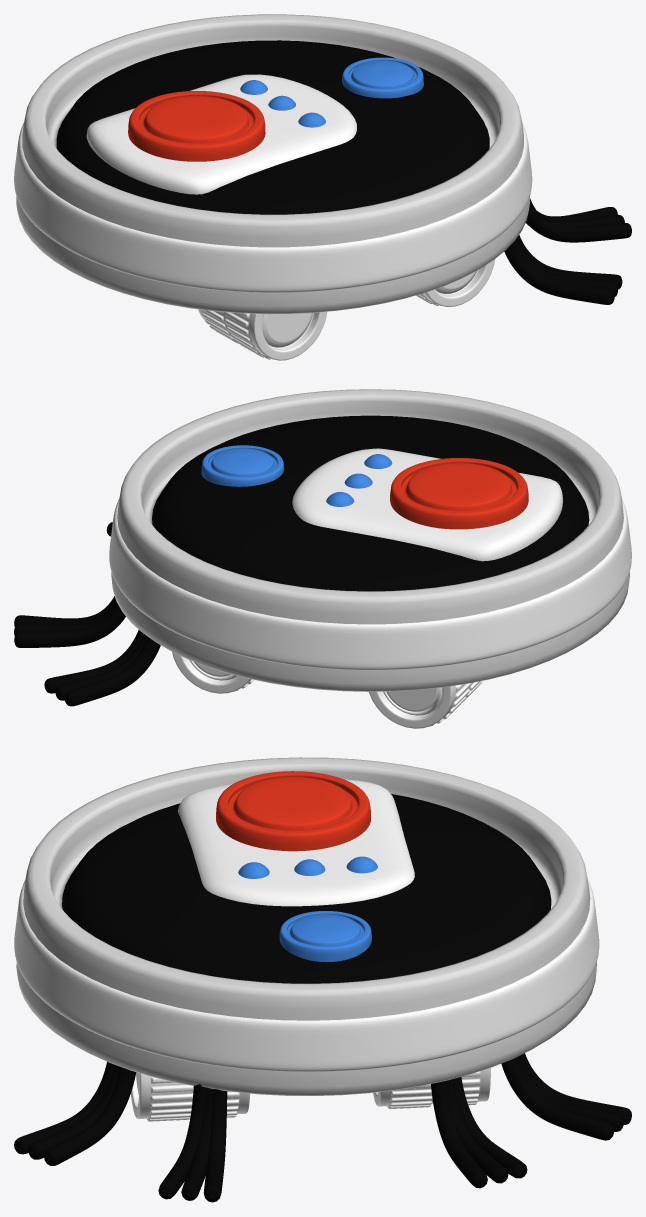
The model's file is vacuum-robot-3d-animated-icon-35979673208.glb.
3 renders of one model, top to bottom at view 1: azimuth 30°, elevation 25°; view 2: azimuth 150°, elevation 25°; view 3: azimuth 270°, elevation 25°, orthographic. The views are drawn at different scales.
Parts seen in each view (by area): view 1: Cylinder.146, Cylinder.157, Plane.018, Cylinder.147, NurbsPath.041, Cylinder.156, Cylinder.152, Cylinder.155; view 2: Cylinder.146, Cylinder.157, Plane.018, Cylinder.147, NurbsPath.041, Cylinder.154, Cylinder.152, Cylinder.153; view 3: Cylinder.146, Cylinder.157, NurbsPath.041, Plane.018, Cylinder.147, Cylinder.152, Cylinder.155, Cylinder.153.
Part boxes in pixels (x1,y1,x2,y2): Cylinder.146: [16, 14, 529, 314]; Cylinder.157: [14, 123, 532, 292]; Plane.018: [86, 74, 356, 194]; Cylinder.147: [128, 91, 265, 161]; NurbsPath.041: [504, 198, 631, 304]; Cylinder.156: [198, 309, 327, 360]; Cylinder.152: [342, 57, 423, 98]; Cylinder.155: [416, 259, 495, 306]; Cylinder.146: [111, 389, 629, 691]; Cylinder.157: [109, 498, 631, 670]; Plane.018: [292, 448, 562, 561]; Cylinder.147: [390, 458, 528, 529]; NurbsPath.041: [14, 522, 160, 706]; Cylinder.154: [369, 681, 482, 728]; Cylinder.152: [201, 445, 284, 486]; Cylinder.153: [172, 652, 253, 693]; Cylinder.146: [16, 757, 596, 1095]; Cylinder.157: [14, 879, 599, 1071]; NurbsPath.041: [14, 1053, 631, 1202]; Plane.018: [178, 779, 414, 906]; Cylinder.147: [216, 771, 371, 851]; Cylinder.152: [279, 911, 371, 962]; Cylinder.155: [131, 1072, 249, 1121]; Cylinder.153: [373, 1067, 490, 1109].
Size of the model in its own units: 11.03 by 3.77 by 9.93.
